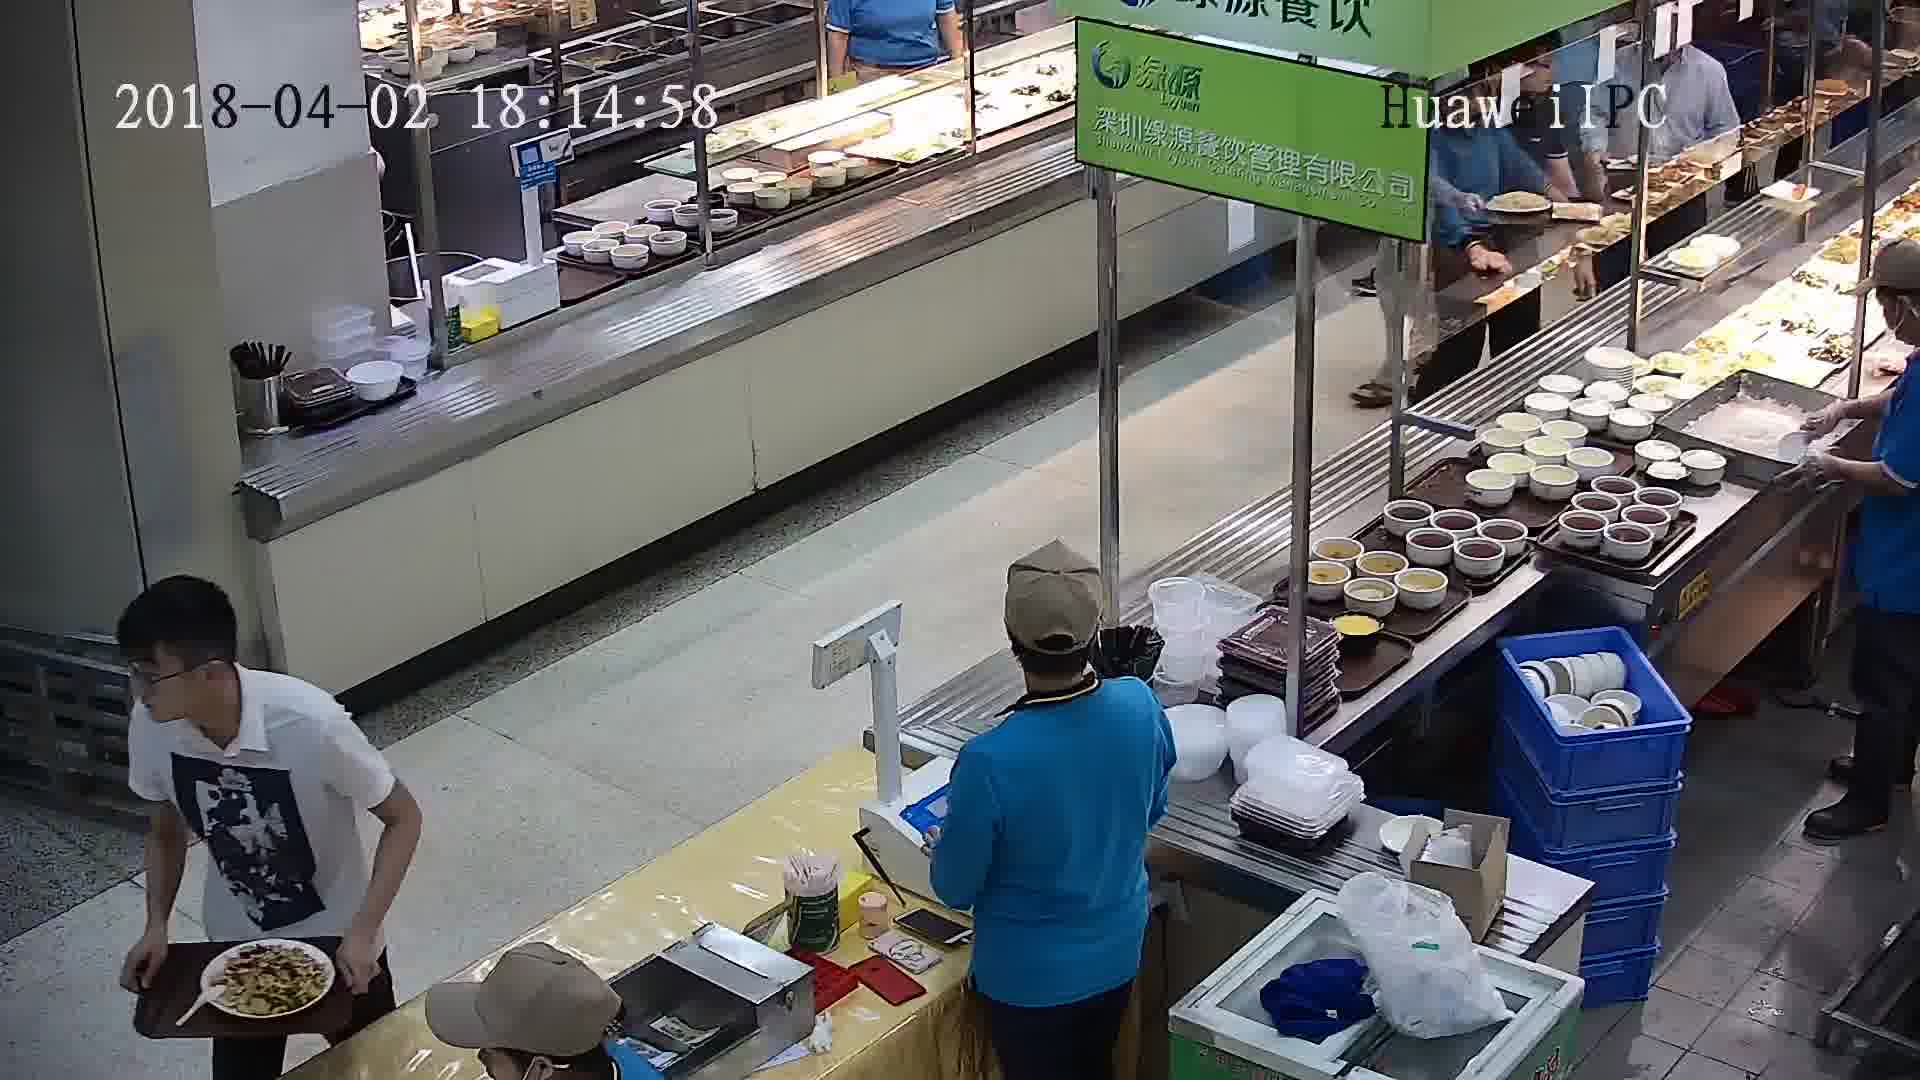face: (128, 642, 209, 724), (1854, 276, 1920, 345)
person: (118, 574, 356, 792), (963, 552, 1169, 801), (1862, 238, 1919, 411)
